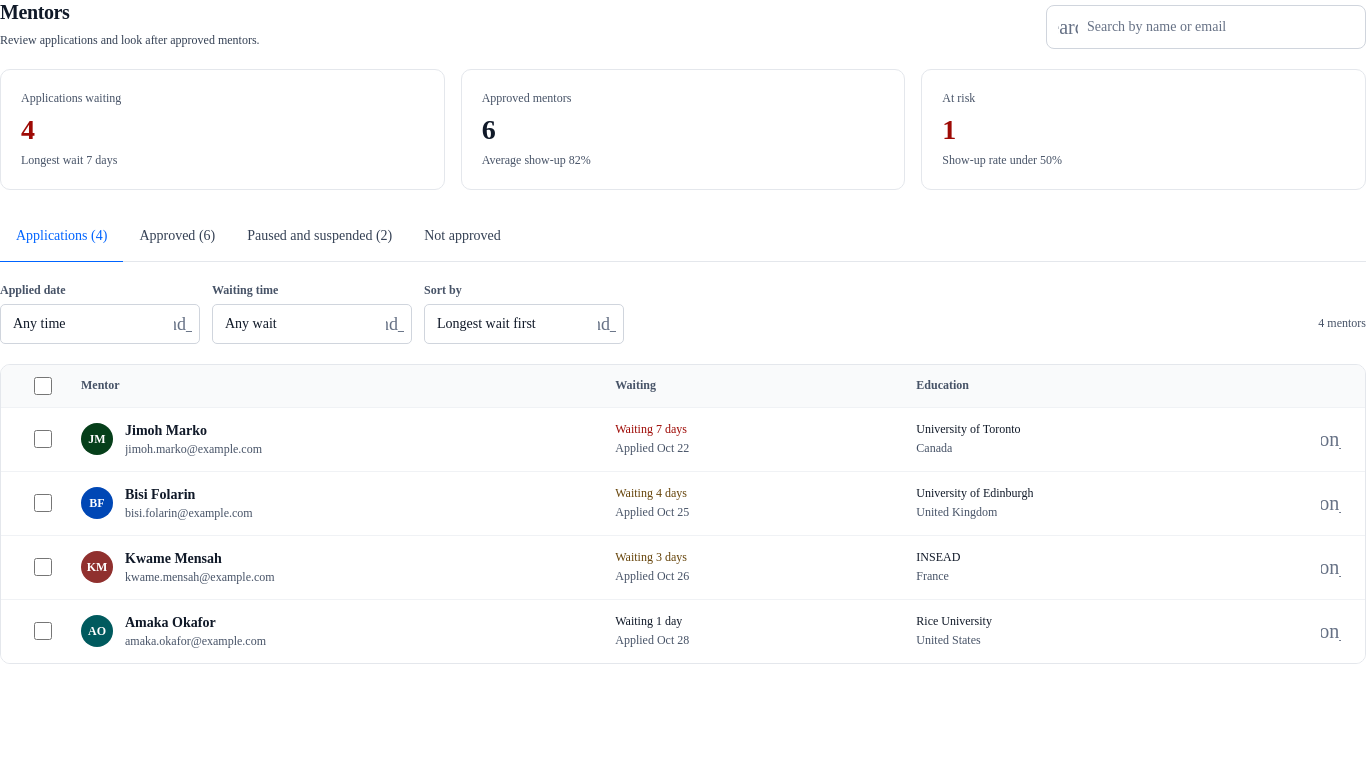
Test: the confirms › not approved needs the comment: error under the box, then it sends
The image size is (1366, 768).
Click the button with aria-label "Open Amaka Okafor" at (196, 623), box x1=125 y1=612 x2=266 y2=633
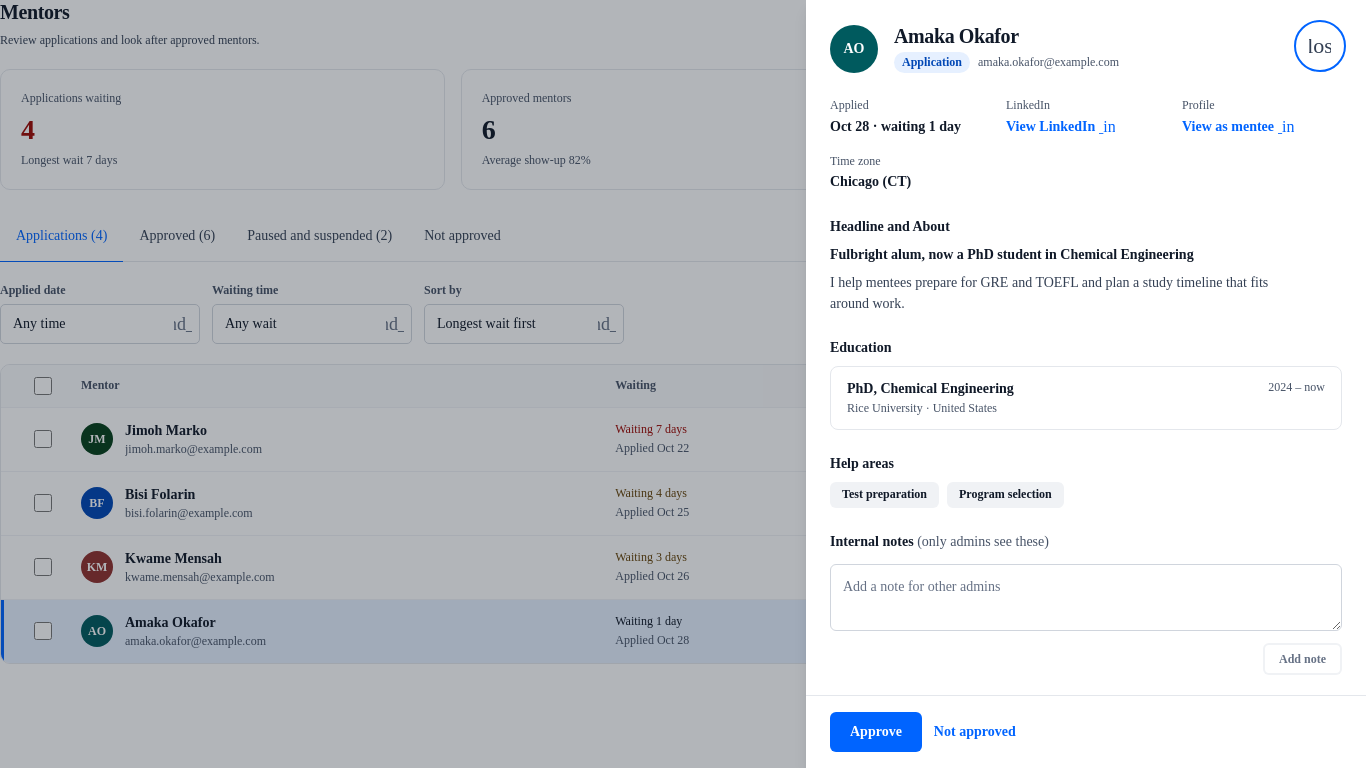
Click the button "Not approved" at (975, 732), box x1=934 y1=722 x2=1016 y2=742
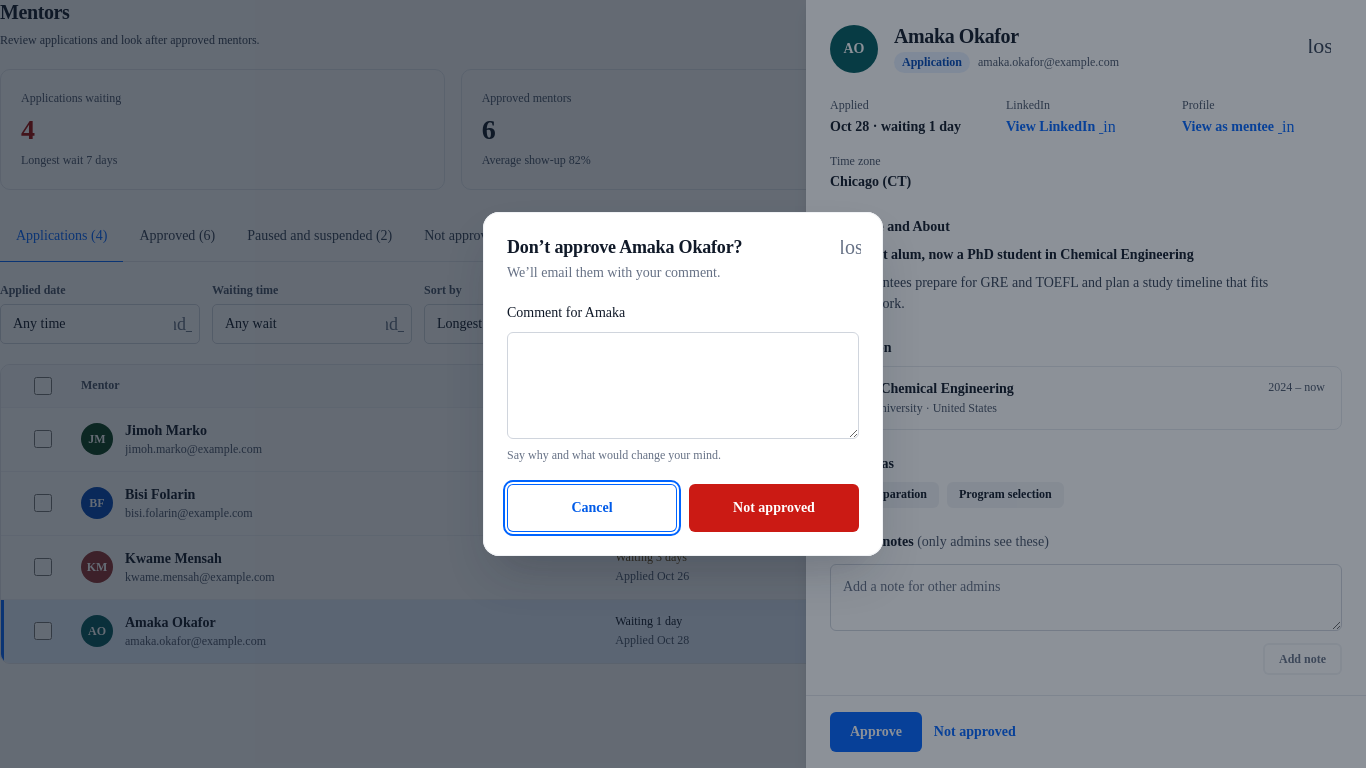
Click the button "Not approved" at (774, 508), box x1=689 y1=484 x2=859 y2=532
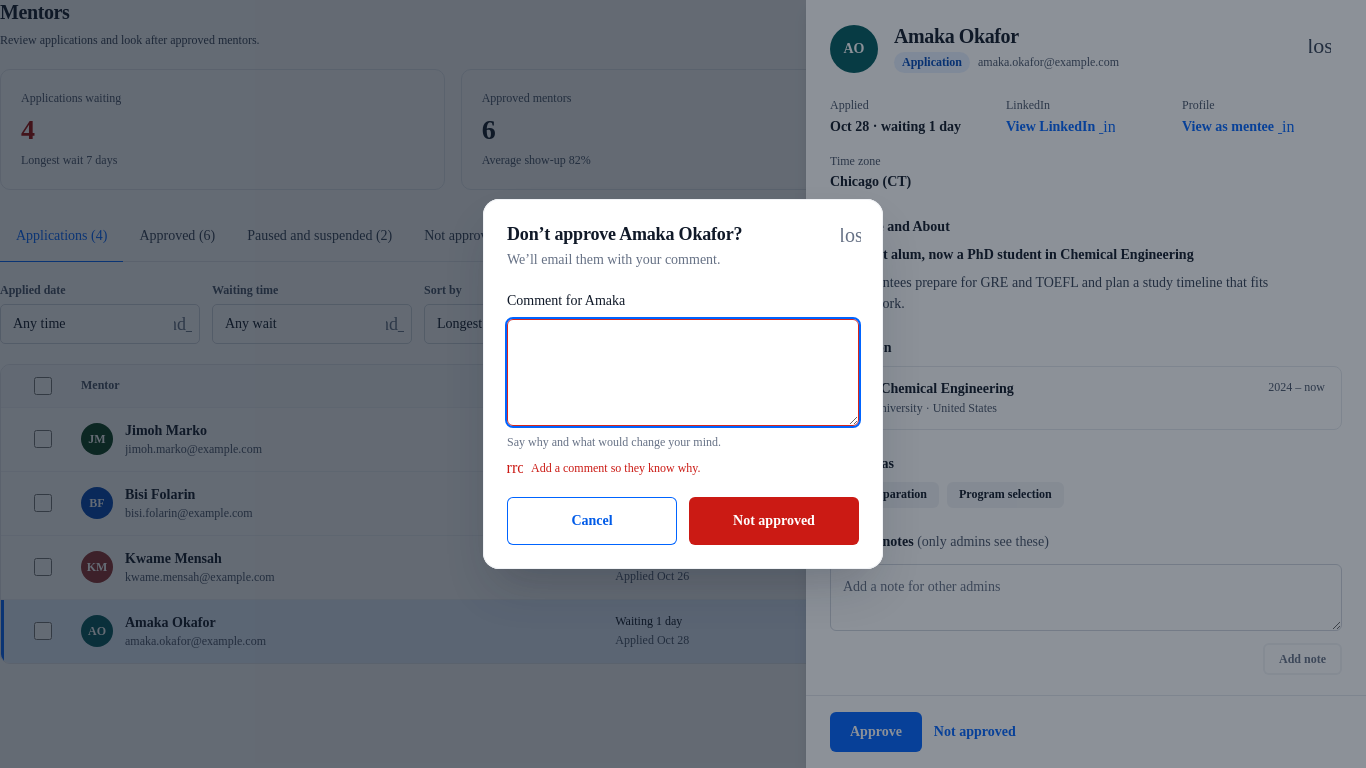
Check: the text "Add a comment so they know why." is shown, box x1=531 y1=460 x2=700 y2=477
Type "No school yet" into the text box labelled "Comment for Amaka" at (683, 373), box x1=507 y1=319 x2=859 y2=426
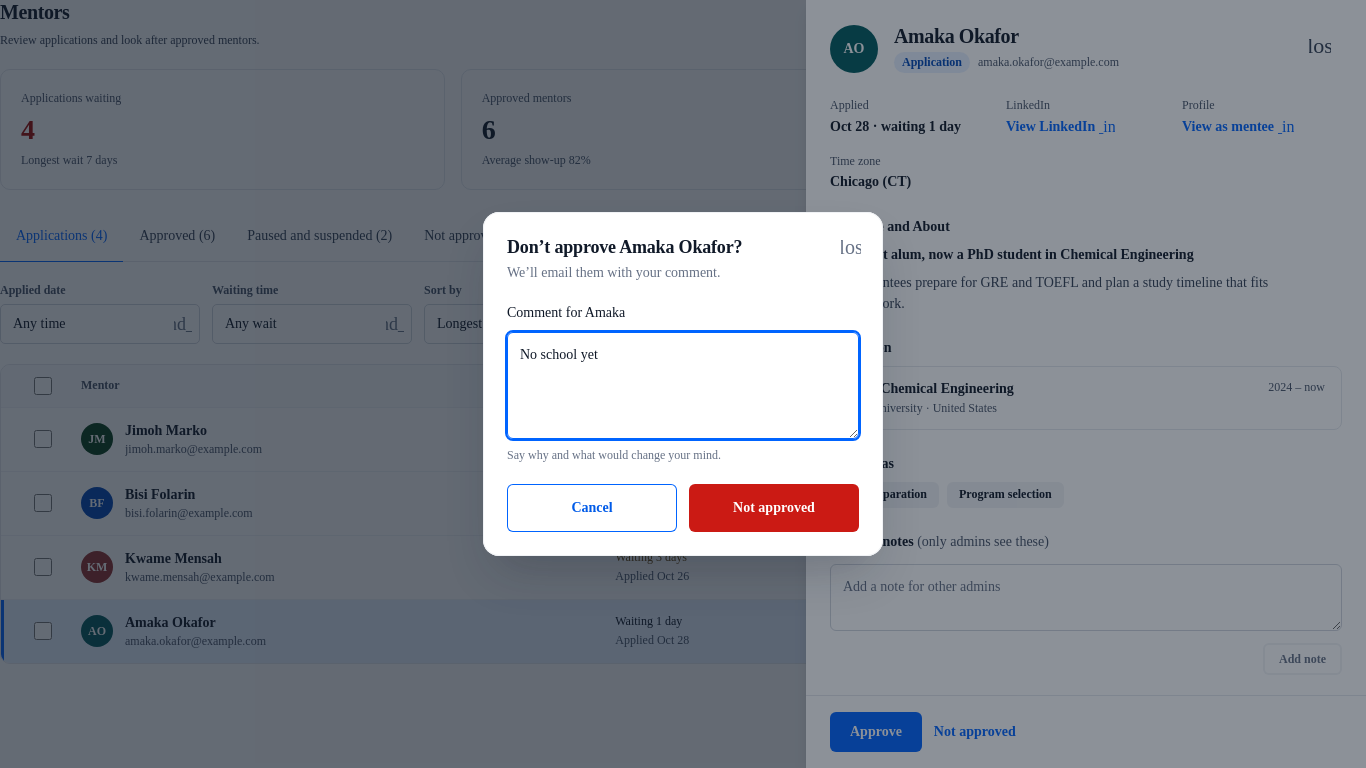
Click the button "Not approved" at (774, 508), box x1=689 y1=484 x2=859 y2=532
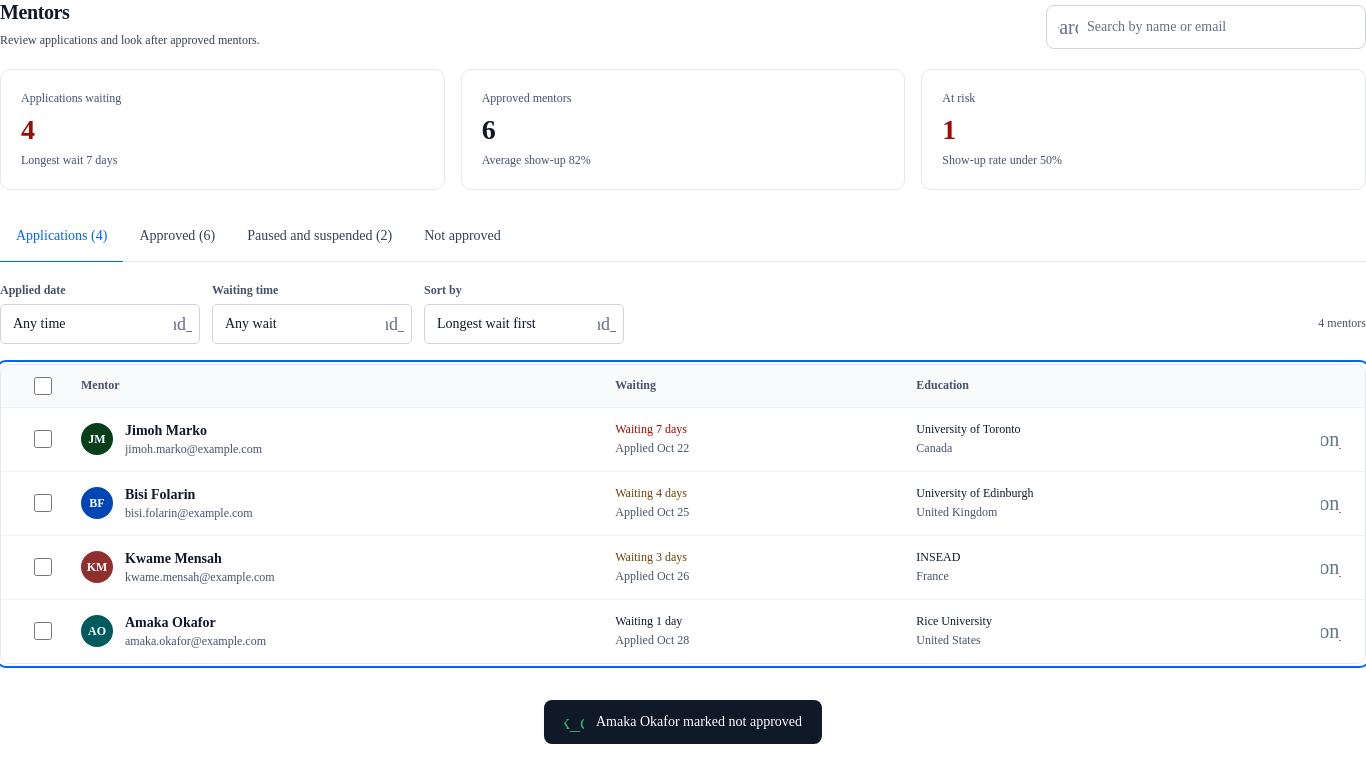
Check: the text "Amaka Okafor marked not approved" is shown, box x1=596 y1=714 x2=802 y2=729
